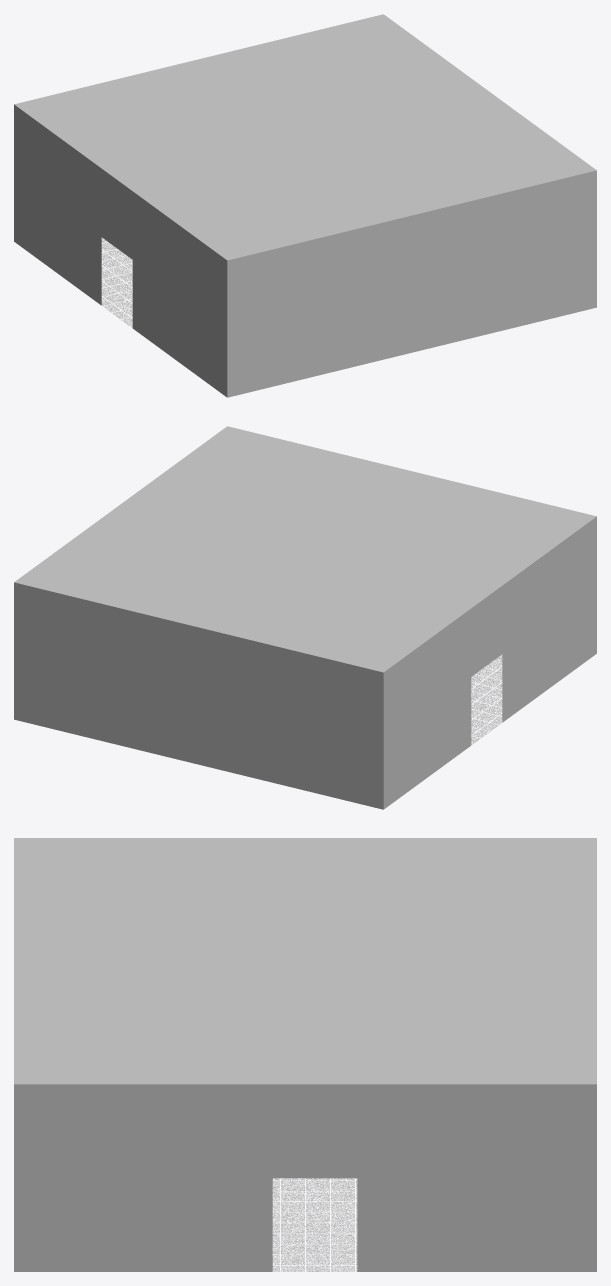
The model's file is Hall01_Remake.obj.
3 renders of one model, top to bottom at view 1: azimuth 30°, elevation 25°; view 2: azimuth 150°, elevation 25°; view 3: azimuth 270°, elevation 25°, orthographic. The views are drawn at different scales.
Visible parts, largest first — view 1: Hall01_Remake; view 2: Hall01_Remake; view 3: Hall01_Remake.
Part boxes in pixels (<box>): Hall01_Remake: <box>14,14,596,397</box>; Hall01_Remake: <box>14,426,596,809</box>; Hall01_Remake: <box>14,838,596,1271</box>.
Size of the model in its own units: 15.5 by 5.5 by 15.5.
